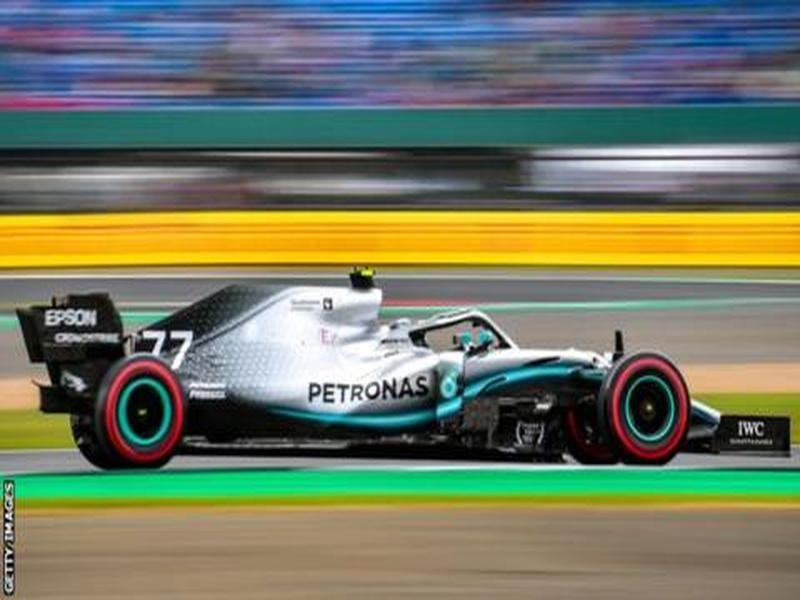f1: (8, 249, 789, 462)
